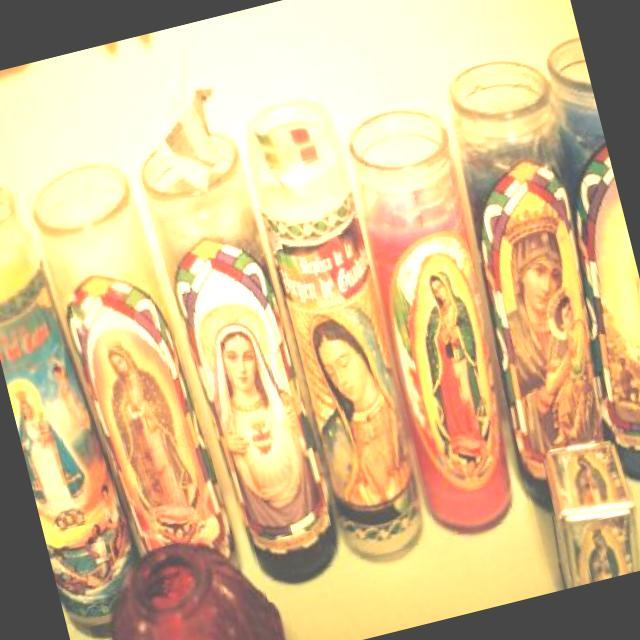Person: (286, 296, 434, 562), (193, 314, 338, 557), (477, 214, 613, 456), (400, 267, 501, 487), (96, 331, 190, 518), (522, 290, 614, 446), (10, 383, 78, 513), (46, 344, 94, 439), (607, 245, 640, 368), (47, 540, 94, 604), (76, 515, 117, 584), (578, 522, 624, 582), (96, 479, 130, 559), (569, 451, 609, 517), (608, 344, 640, 408), (156, 514, 204, 548), (26, 406, 55, 448), (50, 511, 64, 534), (60, 511, 74, 529), (73, 508, 82, 523)
